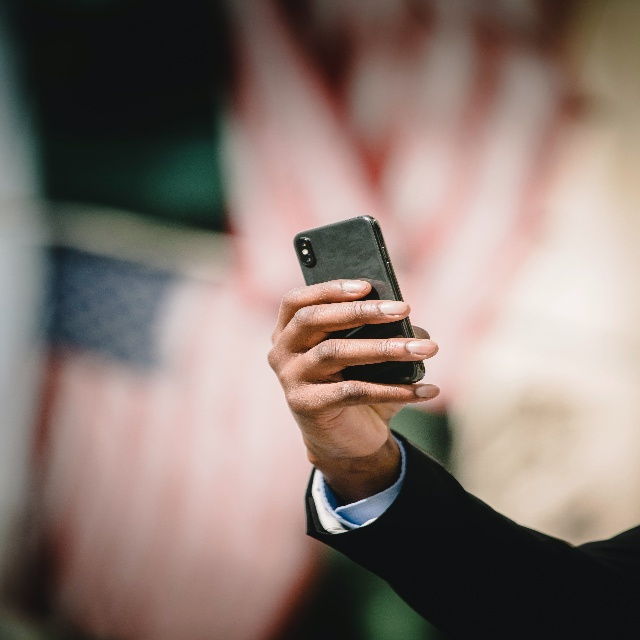Sin_guantes: (264, 277, 442, 465)
